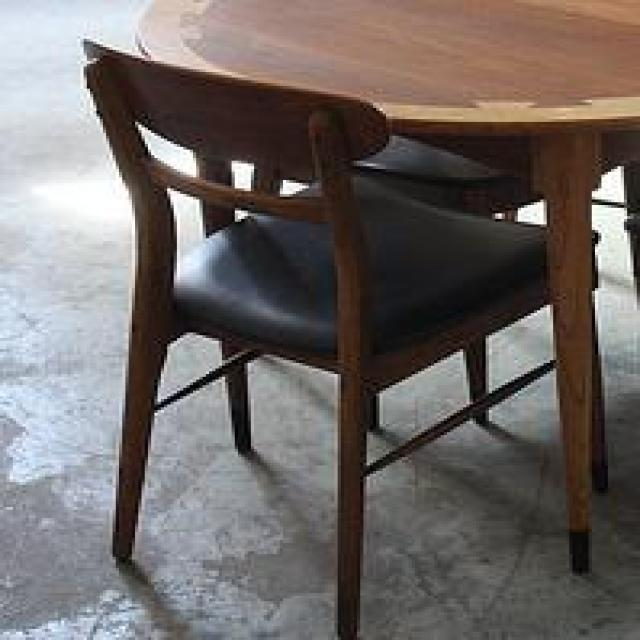chair: (77, 36, 608, 637)
